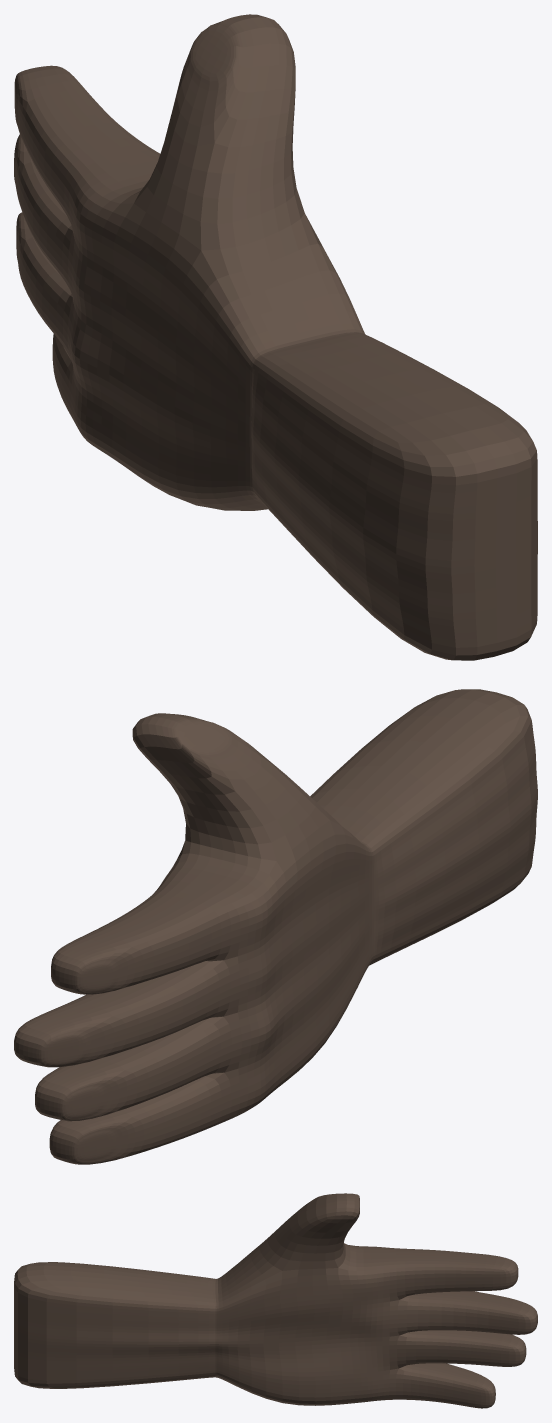
The model's file is mano adulta.fbx.
3 views of the same model, one above another, from view 1: azimuth 30°, elevation 25°; view 2: azimuth 150°, elevation 25°; view 3: azimuth 270°, elevation 25° (orthographic). The views are drawn at different scales.
Visible parts, largest first — view 1: Cube.003; view 2: Cube.003; view 3: Cube.003.
Boxes of the visible parts, bbox=[...] form: Cube.003: bbox=[14, 14, 537, 660]; Cube.003: bbox=[14, 689, 537, 1164]; Cube.003: bbox=[14, 1193, 537, 1408].
Size of the model in its own units: 300 by 678 by 1467.
